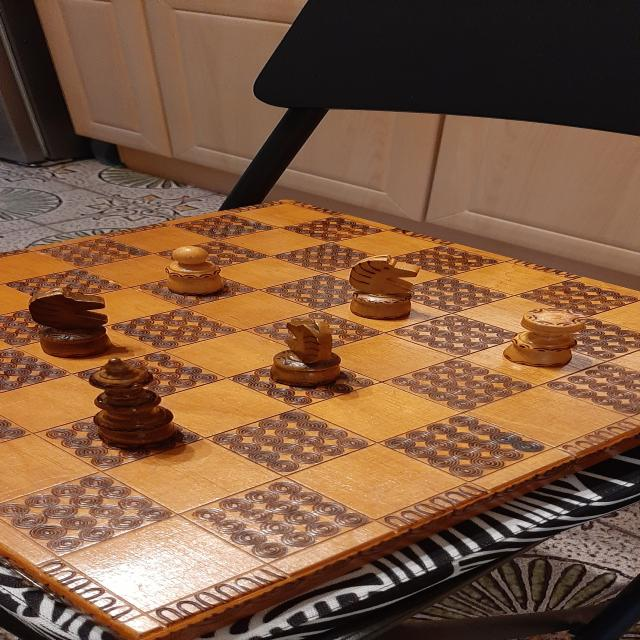black-king: (89, 358, 174, 448)
black-knight: (28, 288, 112, 357), (270, 321, 341, 386)
white-knight: (349, 254, 420, 320)
white-pawn: (166, 246, 224, 296)
white-rook: (503, 307, 587, 367)
